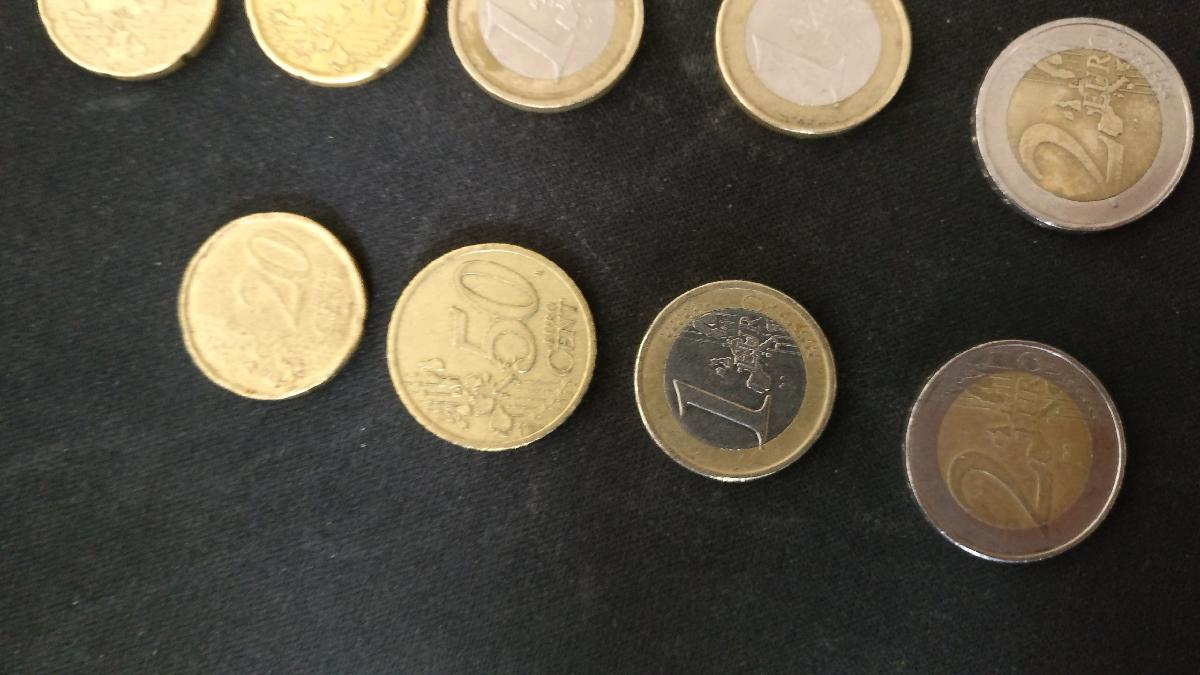Fifty Cent: (386, 241, 603, 455)
One Euro: (638, 279, 838, 486), (715, 1, 911, 144), (445, 1, 649, 113)
Twenty Cent: (177, 212, 366, 399), (246, 1, 432, 91), (34, 1, 223, 82)
Two Euro: (898, 336, 1124, 567), (970, 18, 1191, 236)
